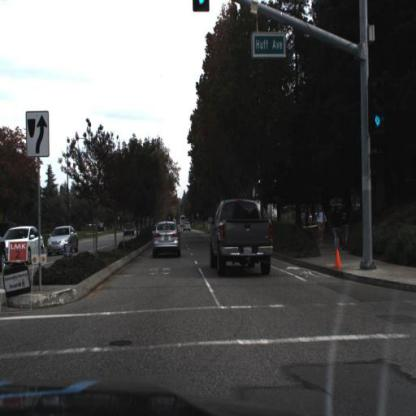biker: (314, 199, 332, 255)
car: (209, 196, 277, 282), (1, 225, 47, 267), (150, 220, 180, 261), (46, 221, 80, 257)
pedestrian: (330, 195, 344, 252), (342, 201, 354, 254)
